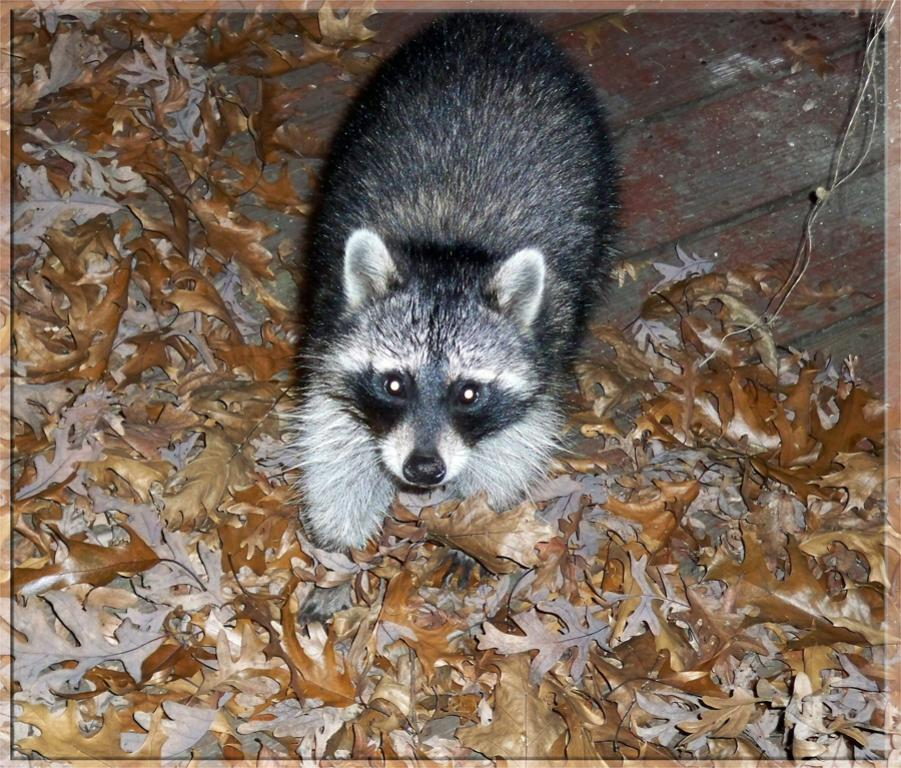raccoon: (295, 13, 620, 542)
